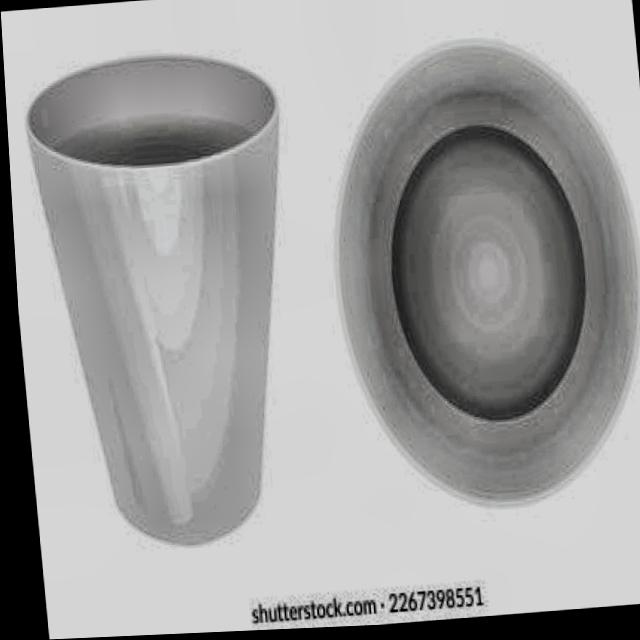Cup: (313, 25, 640, 539), (16, 39, 320, 560)
